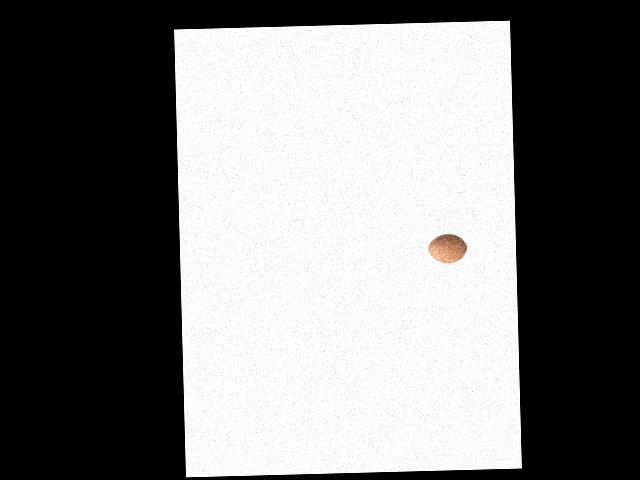egg: (428, 233, 467, 263)
